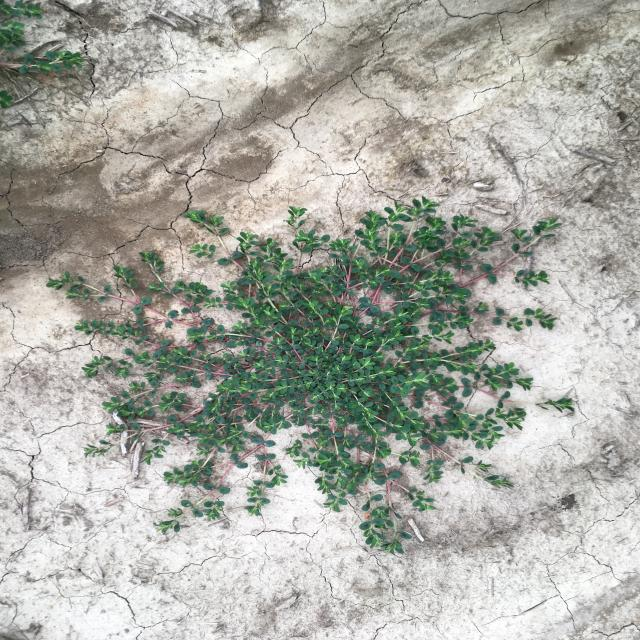SpottedSpurge: (47, 195, 576, 555), (0, 21, 85, 74), (0, 1, 43, 19)
